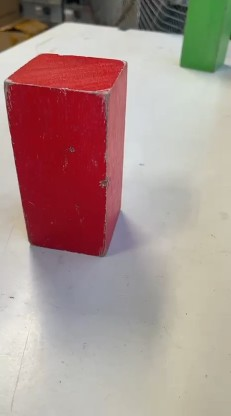red: (14, 45, 130, 256)
